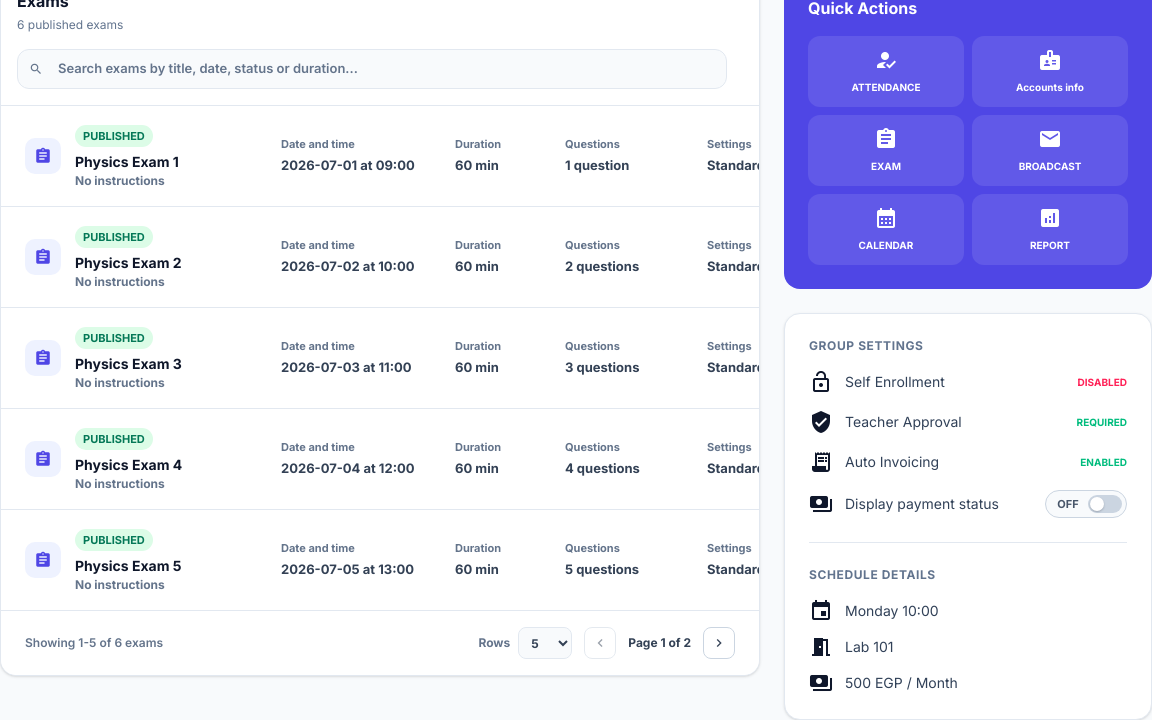
Test: TenantGroupDetailsComponent › filters and paginates exams in the exams tab
(page scrolled)
Expected: the text "Chemistry Final" is not shown
Click the button titled "Next exam page". click: (719, 643)
box: top-left (703, 627), bottom-right (735, 659)
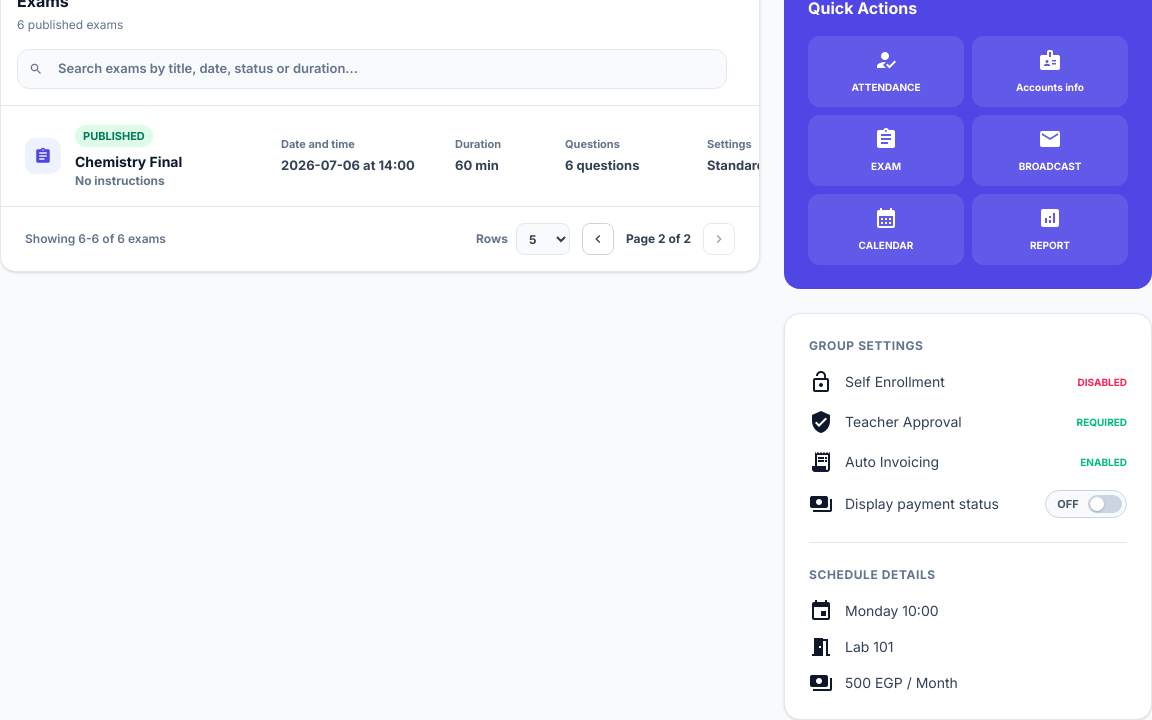
Expected: the text "Chemistry Final" is shown, top-left (75, 153), bottom-right (182, 170)
Type "chemistry" into the search field with placeholder "Search exams by title, date, status or duration...". click: (372, 69)
box: top-left (17, 49), bottom-right (727, 89)
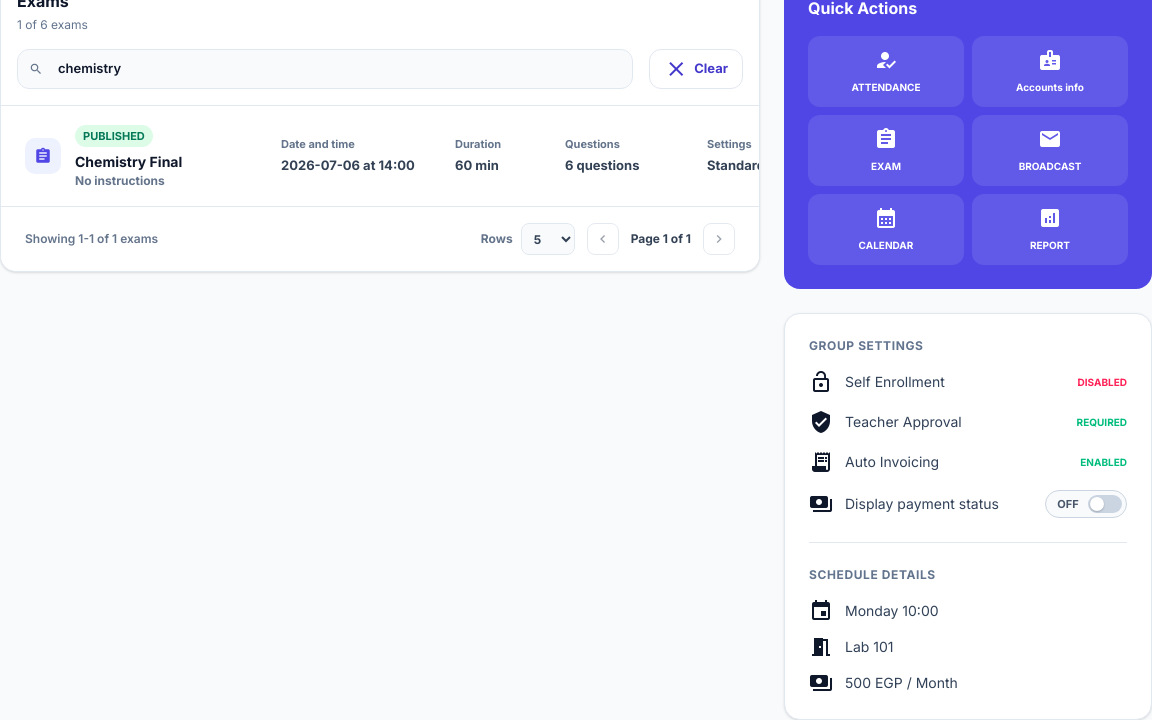
Expected: the text "Physics Exam 1" is not shown
Expected: the text "Chemistry Final" is shown, top-left (75, 153), bottom-right (182, 170)
Expected: the text "1 of 6 exams" is shown, top-left (17, 17), bottom-right (88, 33)
